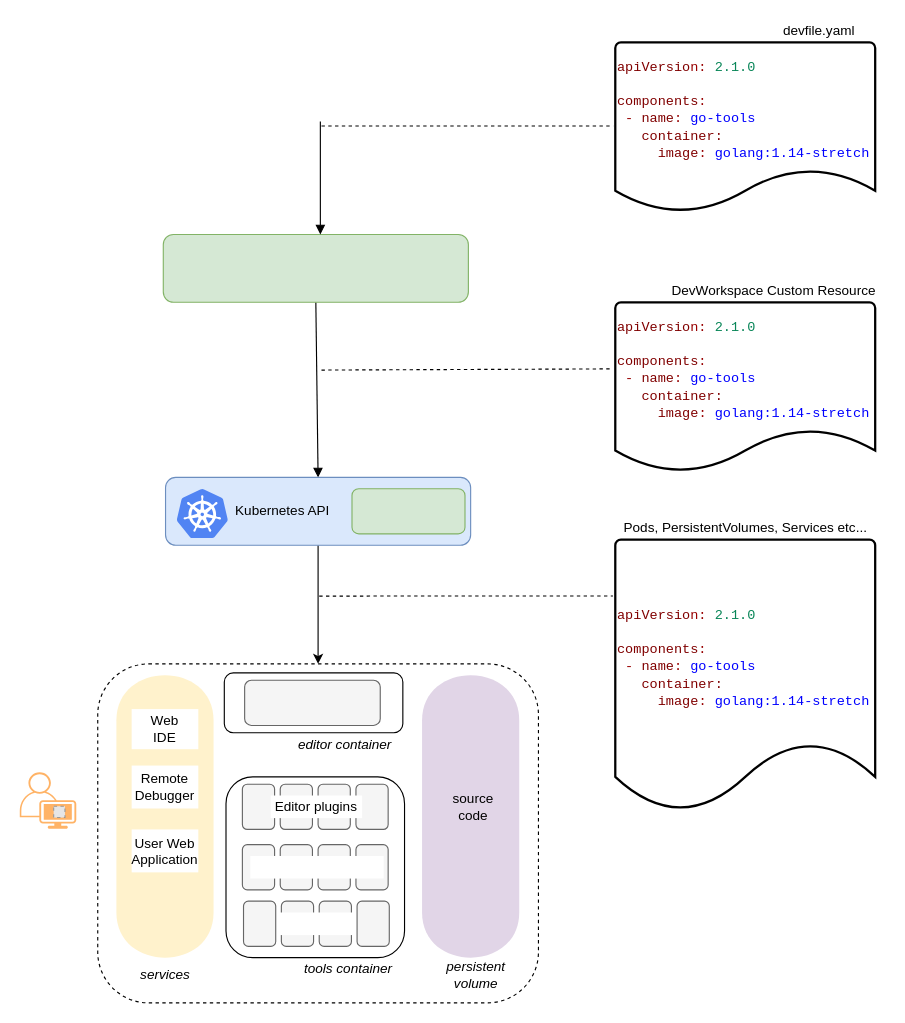
Image size: 905x1023. Some labels were removed from this diagram. Grey dashed boxes stand in for pictures. The centre of each missing label's shape, as x and y in pixels:
CLI tools: pixel 316 923
Code Editor: pixel 312 702
DevWorkspace operator: pixel 408 511
Languages runtimes: pixel 316 866
Workspaces Server: pixel 315 267
